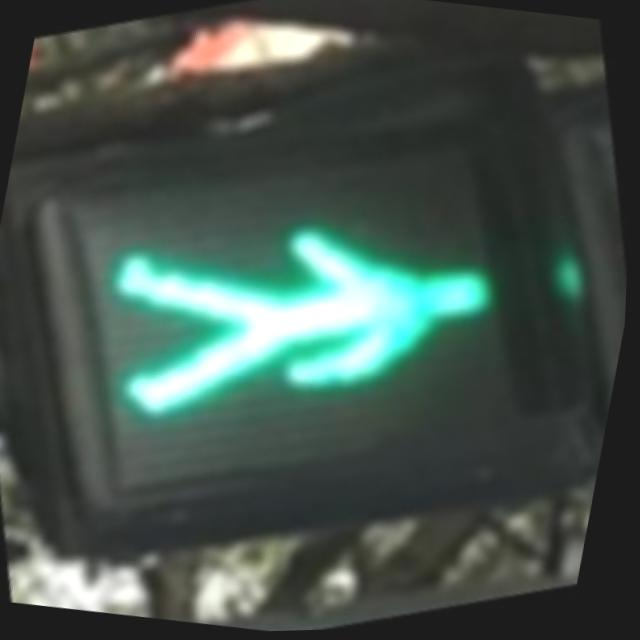green_light: (23, 74, 585, 559)
